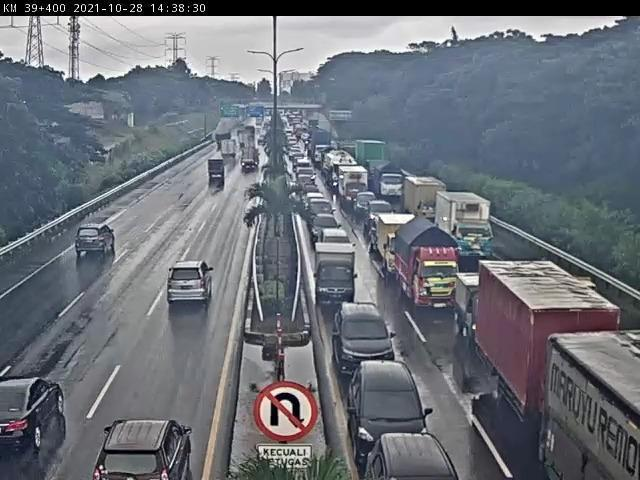car: (93, 415, 182, 479), (352, 365, 431, 437), (2, 372, 69, 444), (373, 435, 458, 480), (340, 303, 398, 360), (167, 258, 225, 314), (323, 249, 368, 305), (77, 217, 122, 255), (319, 230, 352, 250), (316, 218, 343, 240), (207, 158, 227, 181), (374, 207, 397, 227), (308, 205, 334, 222), (363, 198, 380, 216), (303, 189, 319, 201), (300, 177, 314, 190), (297, 169, 315, 179), (308, 196, 323, 207), (296, 163, 312, 172), (295, 152, 307, 163), (313, 188, 314, 190), (325, 203, 326, 204)
truck: (490, 266, 593, 418), (403, 232, 460, 311), (445, 196, 497, 263), (459, 277, 487, 345), (384, 218, 411, 272), (409, 179, 442, 223), (343, 171, 372, 207), (382, 166, 408, 201), (329, 154, 351, 194), (363, 144, 388, 179), (313, 134, 334, 166), (244, 145, 263, 171), (224, 137, 239, 155), (260, 127, 271, 144), (242, 129, 253, 146), (218, 131, 230, 144), (249, 121, 259, 135)
